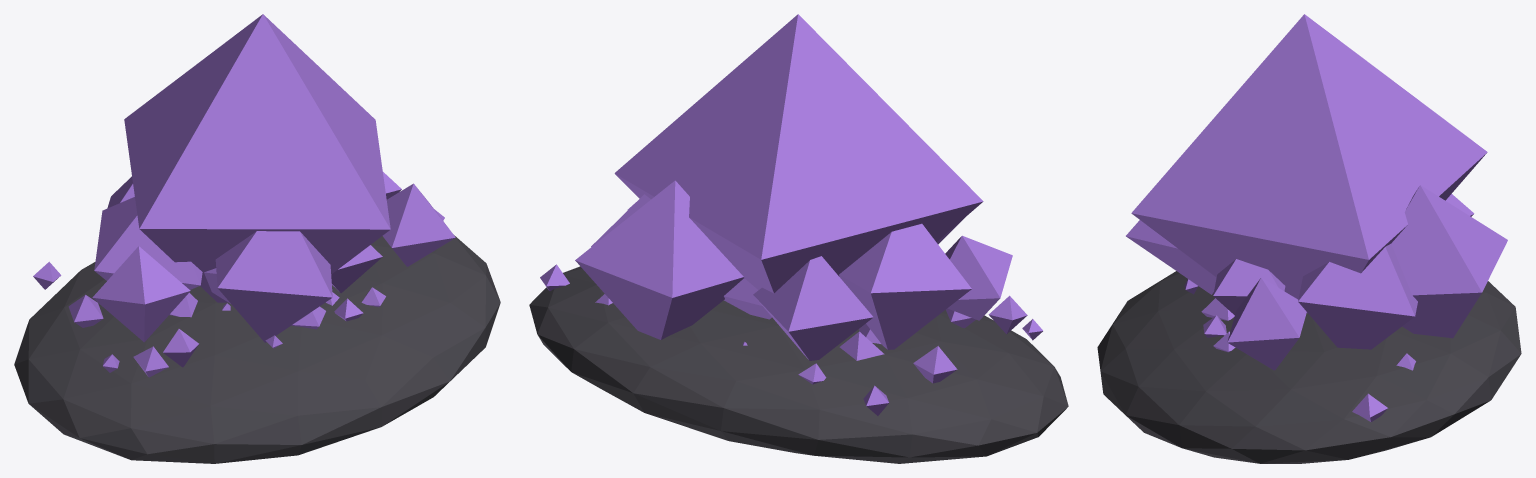
The model's file is fluorite.glb.
3 views of the same model, side by side, from view 1: azimuth 30°, elevation 25°; view 2: azimuth 150°, elevation 25°; view 3: azimuth 270°, elevation 25° (orthographic). The views are drawn at different scales.
Parts seen in each view (by area): view 1: Fluorite; view 2: Fluorite; view 3: Fluorite.
Part boxes in pixels (bbox=[...]): Fluorite: bbox=[14, 14, 500, 463]; Fluorite: bbox=[529, 14, 1068, 463]; Fluorite: bbox=[1097, 14, 1521, 463].
Bounding box in the file's own units: 3.96 × 3.16 × 3.03.
